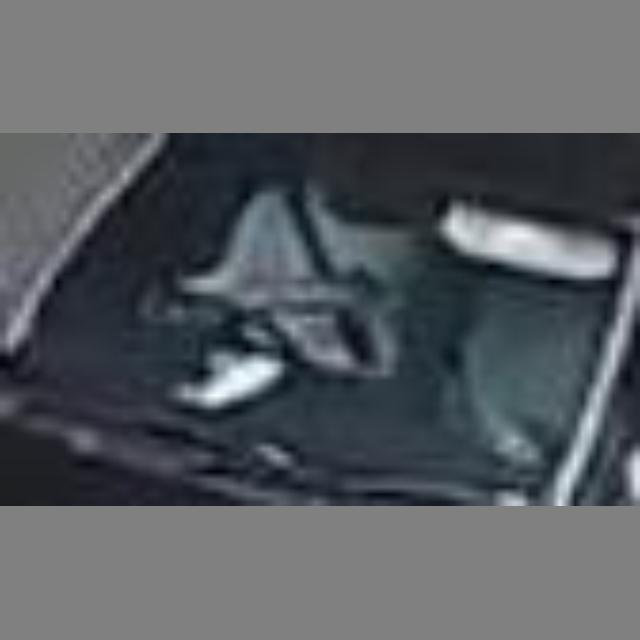pakai: (213, 179, 434, 377)
